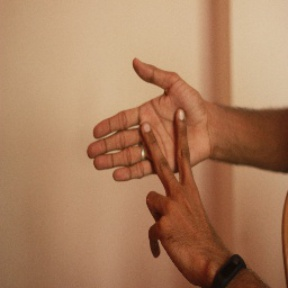N: (85, 54, 225, 241)
